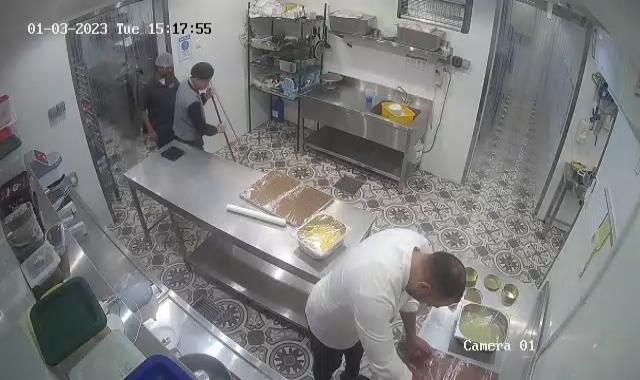hairnet: (152, 50, 175, 74)
no_hairnet: (419, 250, 466, 308), (189, 60, 213, 85)
